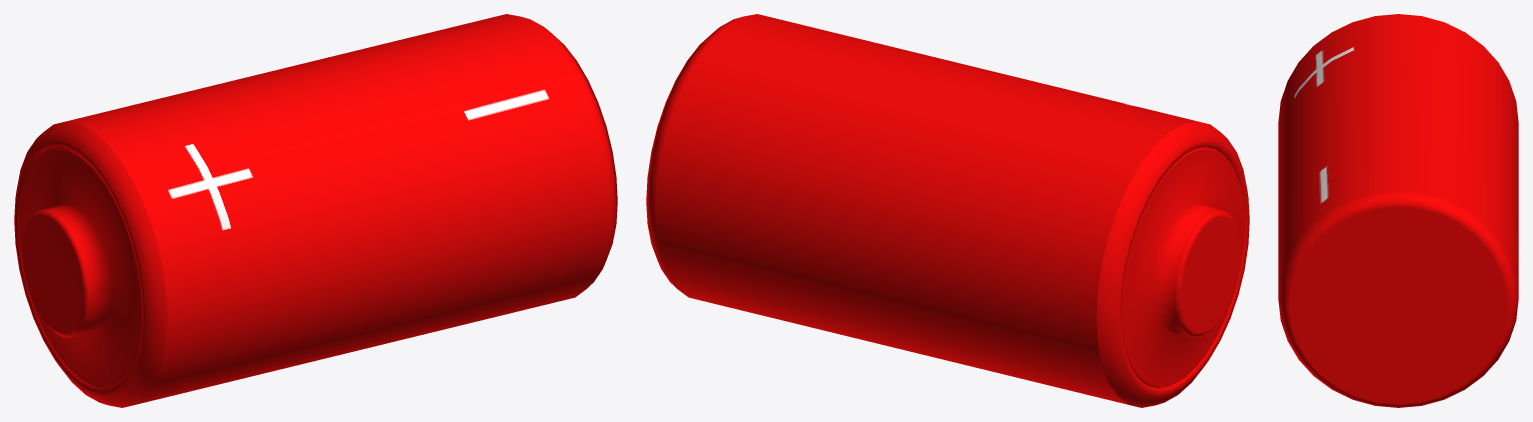
File: battery.glb
The picture shows the model from 3 angles, left to right: view 1: azimuth 30°, elevation 25°; view 2: azimuth 150°, elevation 25°; view 3: azimuth 270°, elevation 25°; orthographic projection. The views are drawn at different scales.
Visible parts, largest first — view 1: Battery; view 2: Battery; view 3: Battery.
Part boxes in pixels (x1=…): Battery: x1=14, y1=14, x2=617, y2=407; Battery: x1=646, y1=14, x2=1249, y2=407; Battery: x1=1278, y1=14, x2=1518, y2=407.
Size of the model in its own units: 1.97 by 1 by 1.
1 material, 1 textured.
